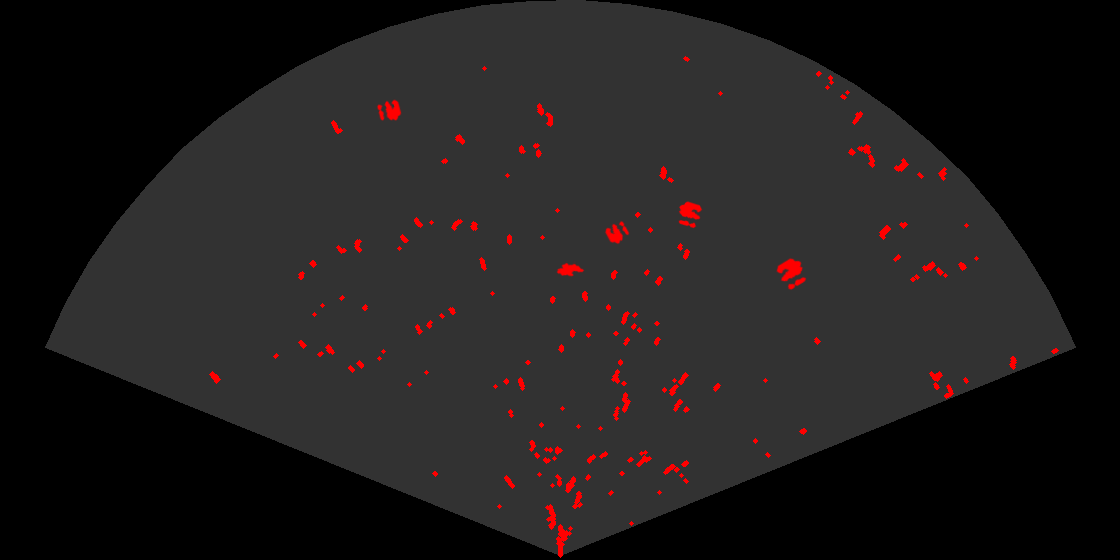AUV: (555, 261, 586, 278)
ball: (775, 256, 808, 291), (677, 200, 704, 230), (603, 219, 631, 246), (375, 98, 403, 122)
